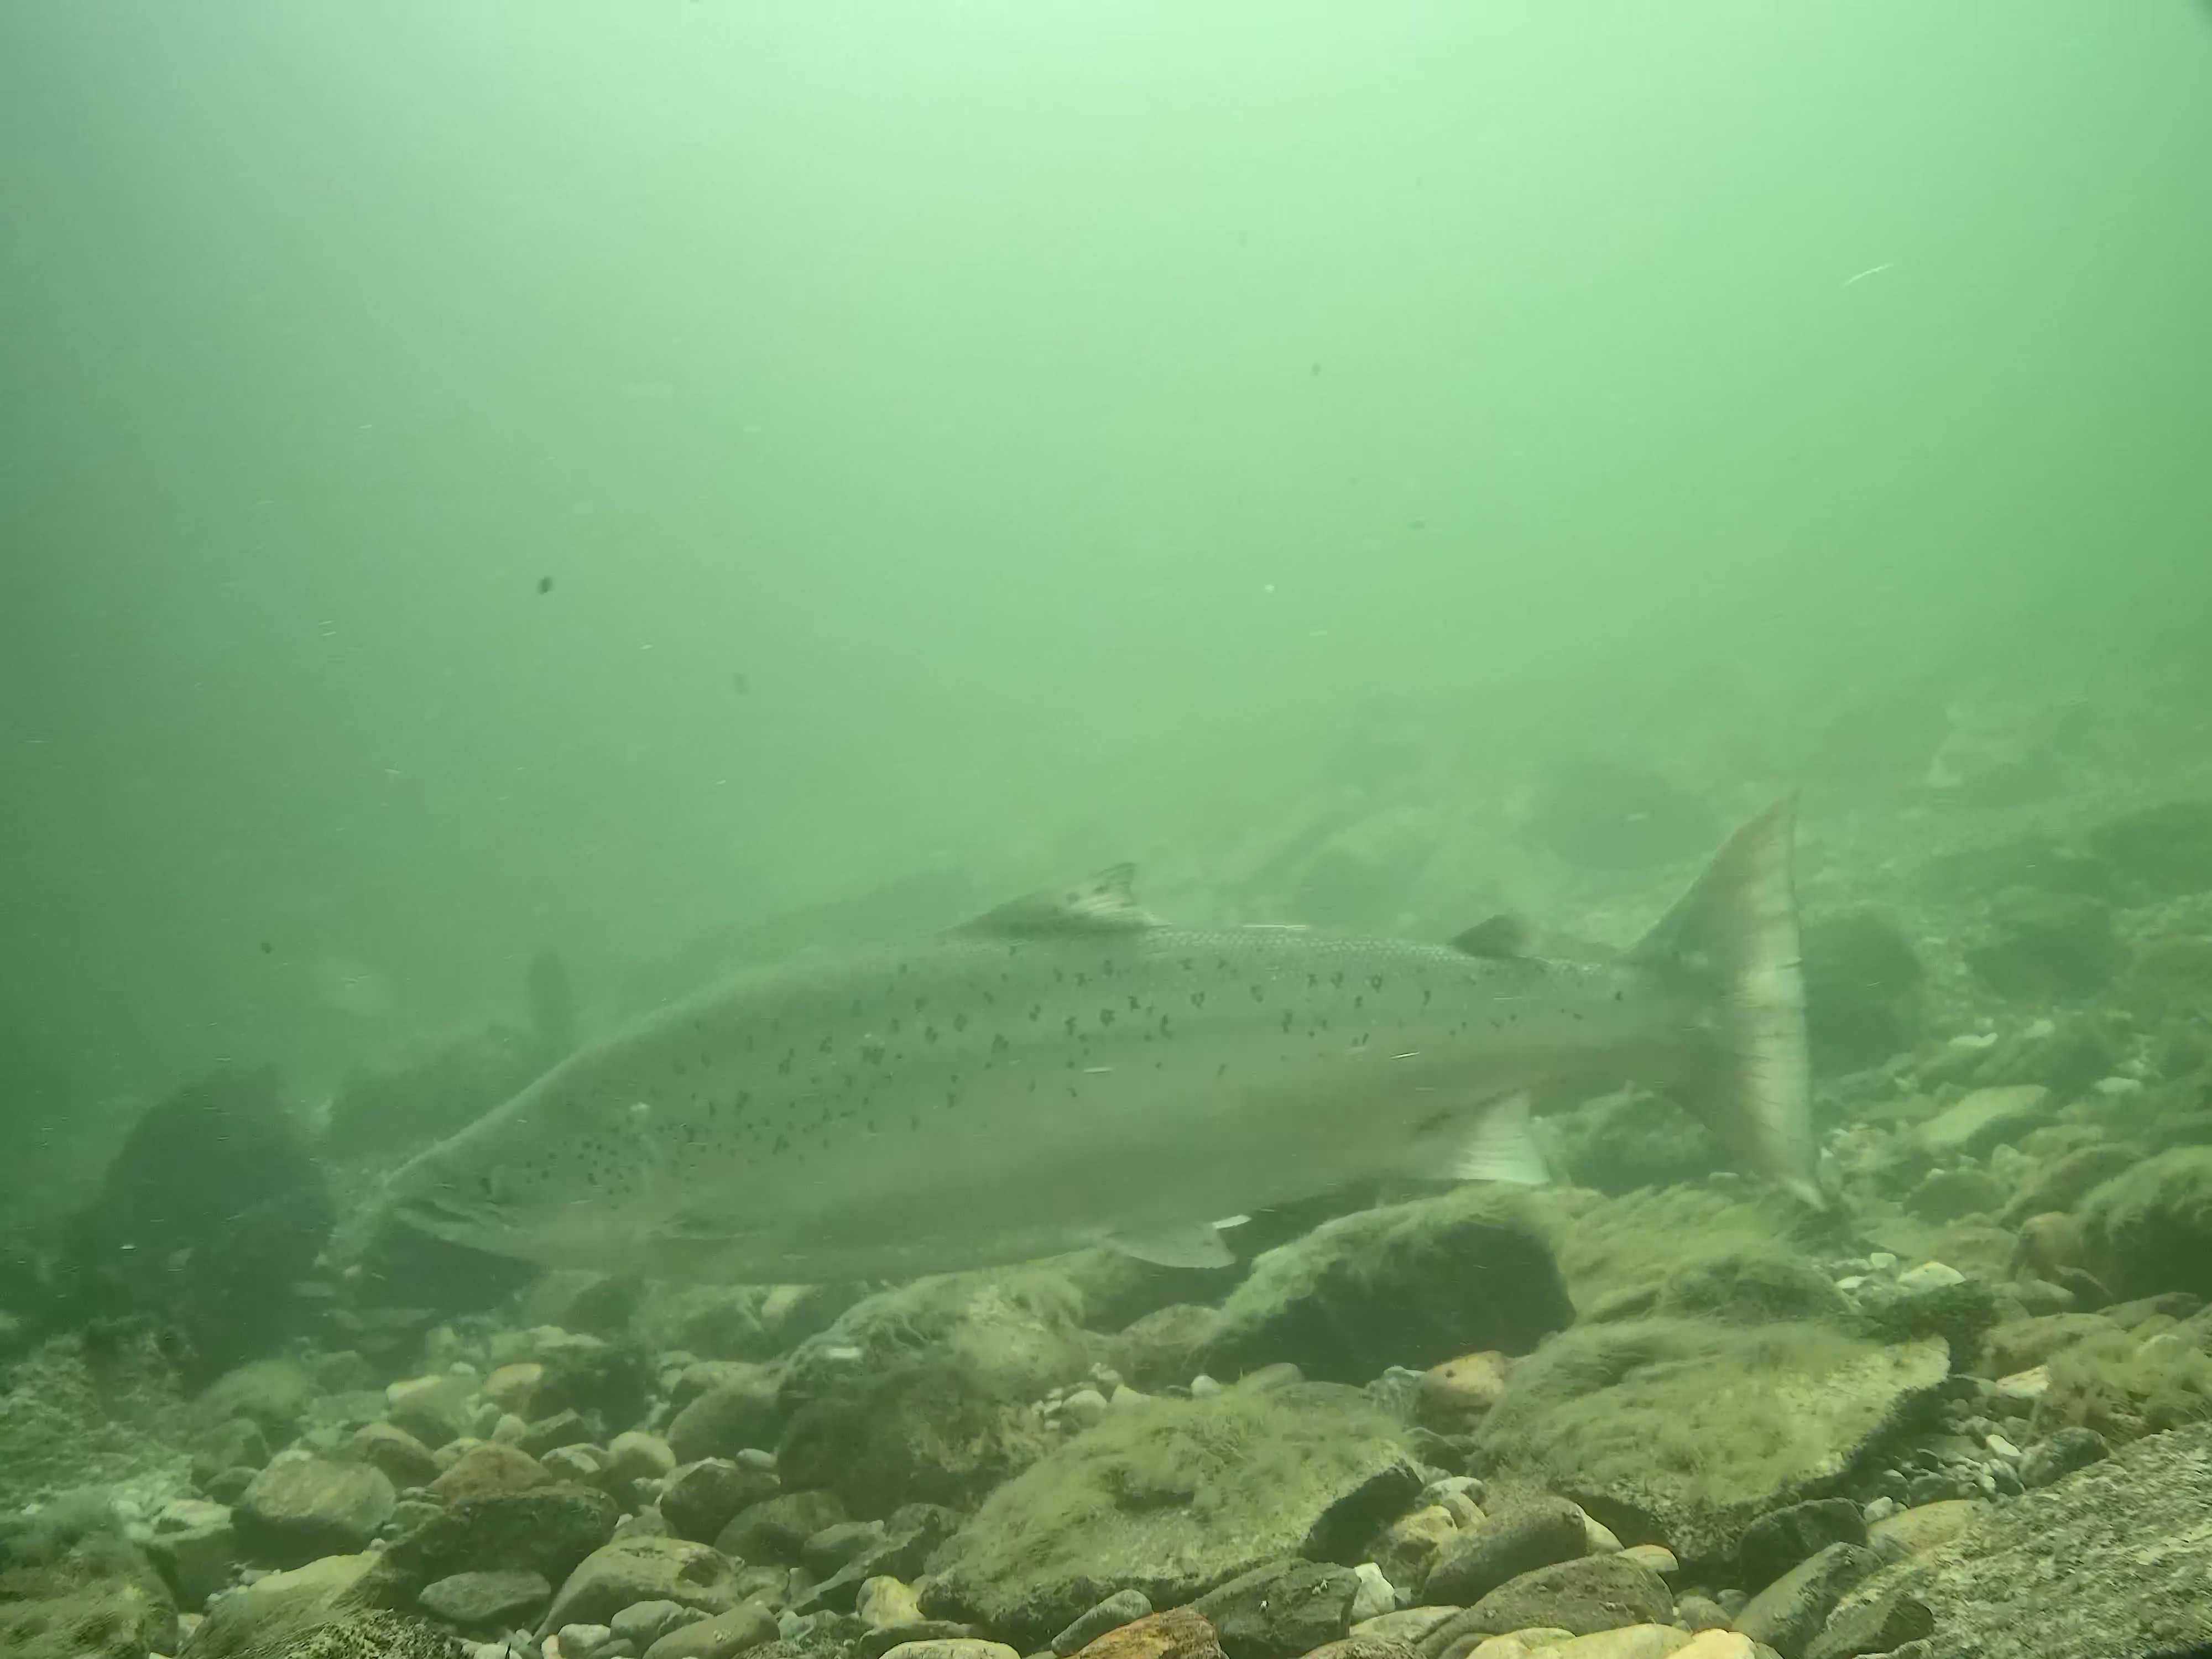salmon: (376, 788, 1827, 1291)
